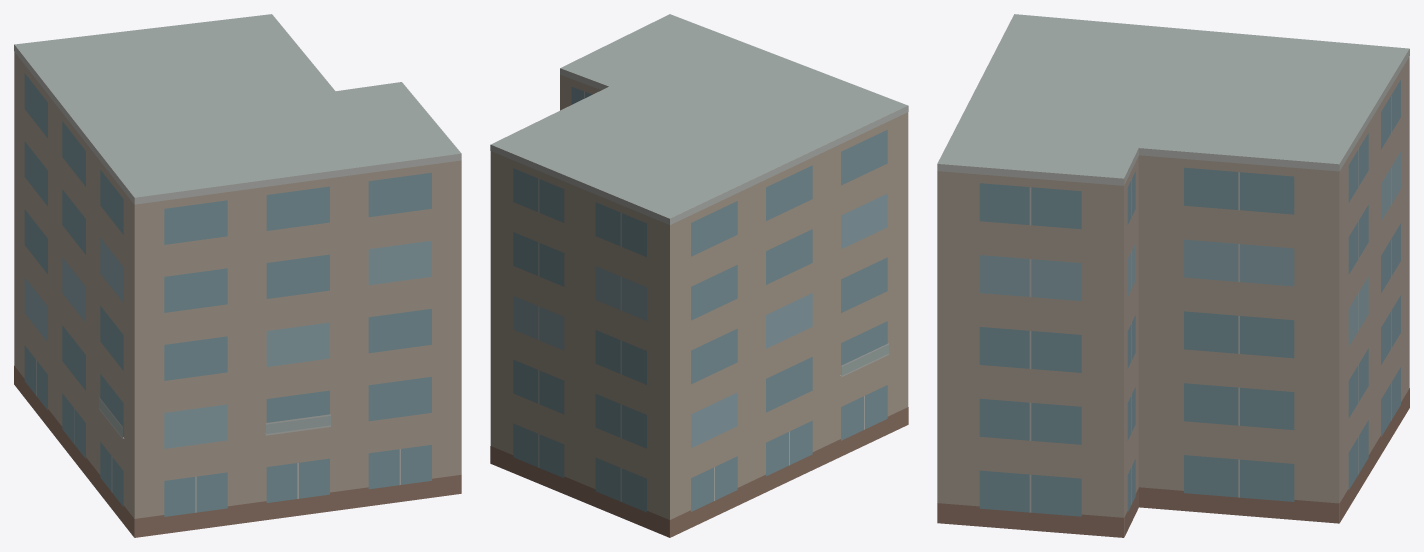
File: survey-upis-32924649.glb
The picture shows the model from 3 angles, left to right: view 1: azimuth 30°, elevation 25°; view 2: azimuth 150°, elevation 25°; view 3: azimuth 270°, elevation 25°; orthographic projection. The views are drawn at different scales.
Parts seen in each view (by area): view 1: survey-upis-32924649.tmp; view 2: survey-upis-32924649.tmp; view 3: survey-upis-32924649.tmp.
Boxes of the visible parts, x1,y1,x2,y2 form: survey-upis-32924649.tmp: [14, 14, 461, 537]; survey-upis-32924649.tmp: [490, 14, 908, 537]; survey-upis-32924649.tmp: [937, 14, 1409, 537].
Size of the model in its own units: 11.95 by 12.15 by 14.5.
